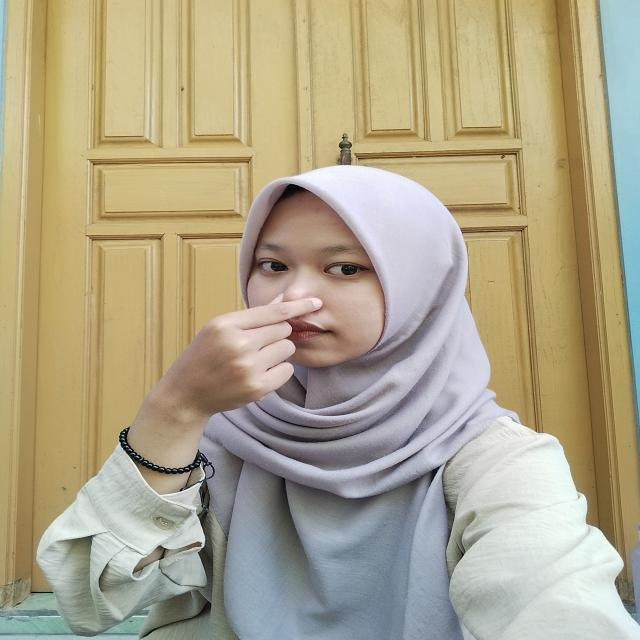bau: (152, 266, 330, 414)
